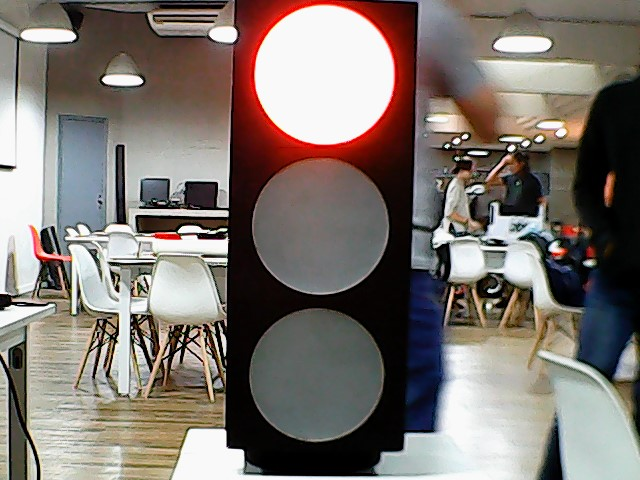vermelho: (225, 1, 421, 474)
